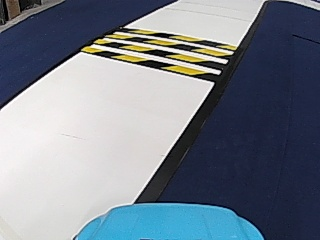bump: (104, 28, 224, 83)
